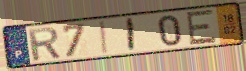0: (156, 14, 184, 47)
7: (62, 21, 88, 59)
E: (186, 8, 219, 47)
I: (99, 19, 111, 56), (126, 16, 136, 53)
R: (26, 25, 63, 63)
